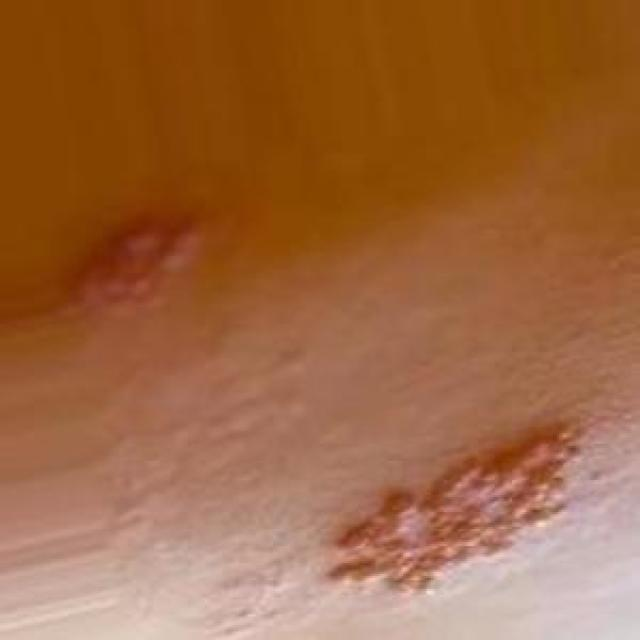Shingles: (328, 421, 594, 603), (53, 212, 208, 319)
